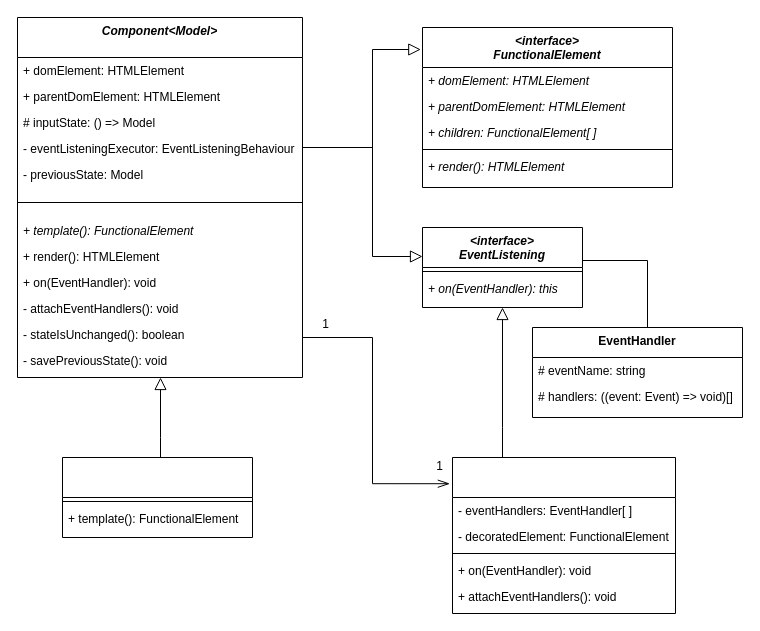
Some shapes in this 760 by 631 pixel diagram are drawn without their labels. The box of each missing label's shape, as (x1, y1, x2, y2) in pixels:
ConcreteComponent: (62, 456, 252, 538)
EventListeningBehaviour: (452, 456, 676, 614)
